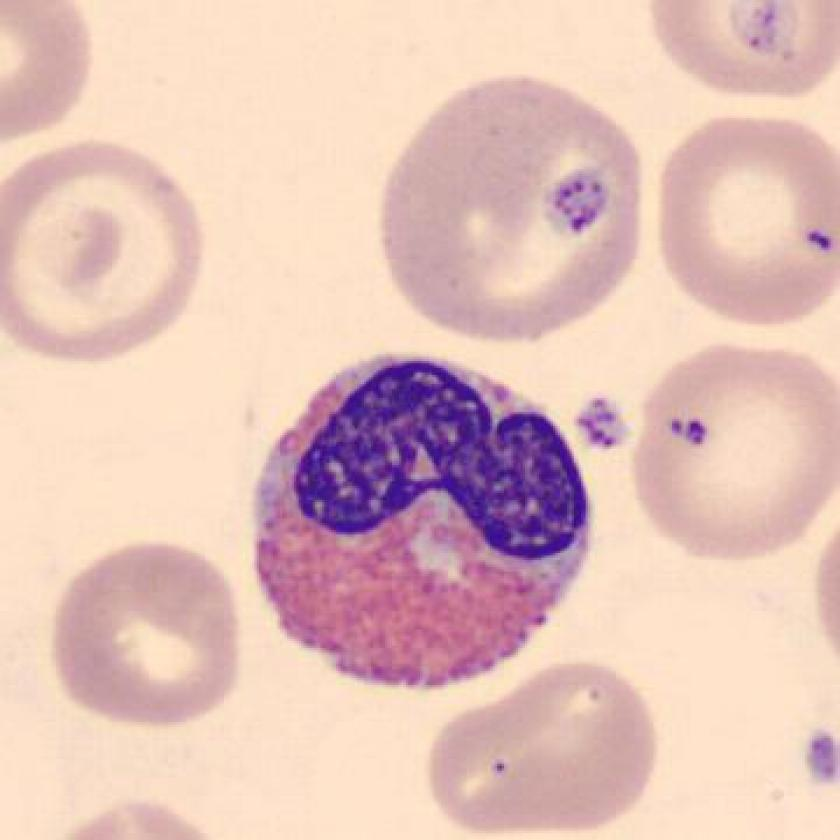eosinophil: (239, 337, 605, 705)
